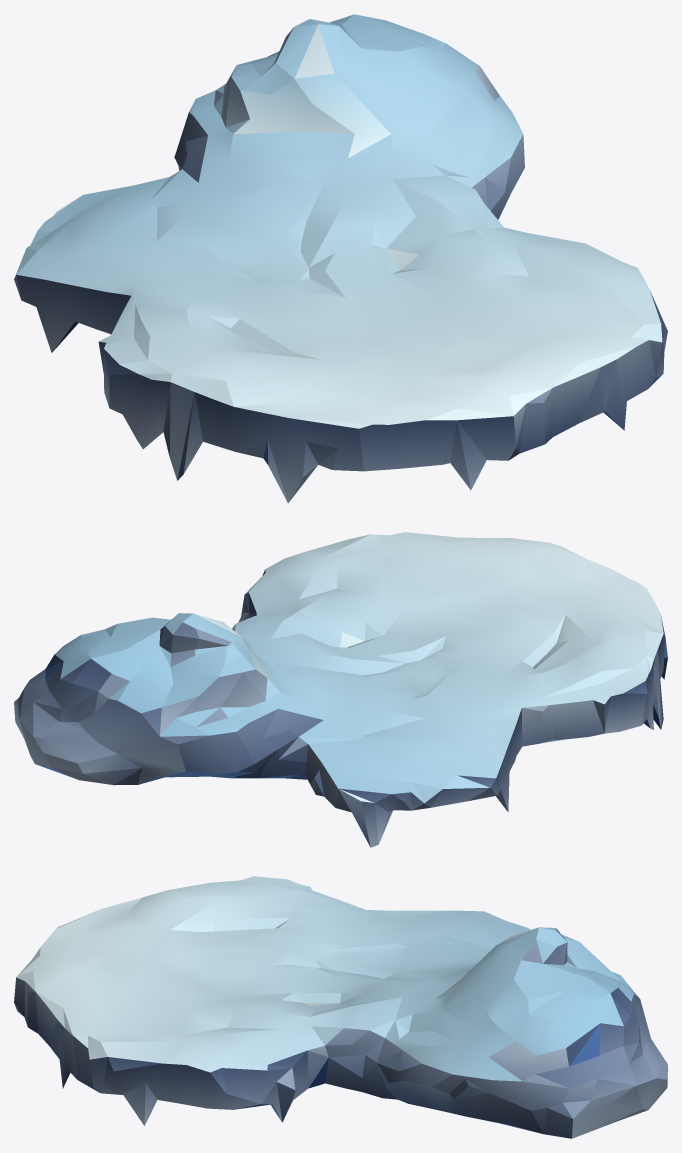
File: Floor-IcePatch-2.glb
The picture shows the model from 3 angles, top to bottom: view 1: azimuth 30°, elevation 25°; view 2: azimuth 150°, elevation 25°; view 3: azimuth 270°, elevation 25°; orthographic projection. The views are drawn at different scales.
Visible parts, largest first — view 1: Floor-IcePatch-2-col; view 2: Floor-IcePatch-2-col; view 3: Floor-IcePatch-2-col.
Boxes of the visible parts, bbox=[...] form: Floor-IcePatch-2-col: bbox=[14, 14, 667, 503]; Floor-IcePatch-2-col: bbox=[14, 532, 667, 847]; Floor-IcePatch-2-col: bbox=[14, 876, 667, 1138].
Bounding box in the file's own units: 7.1 × 2.49 × 8.58.
Materials: 1 (1 with a texture image).
